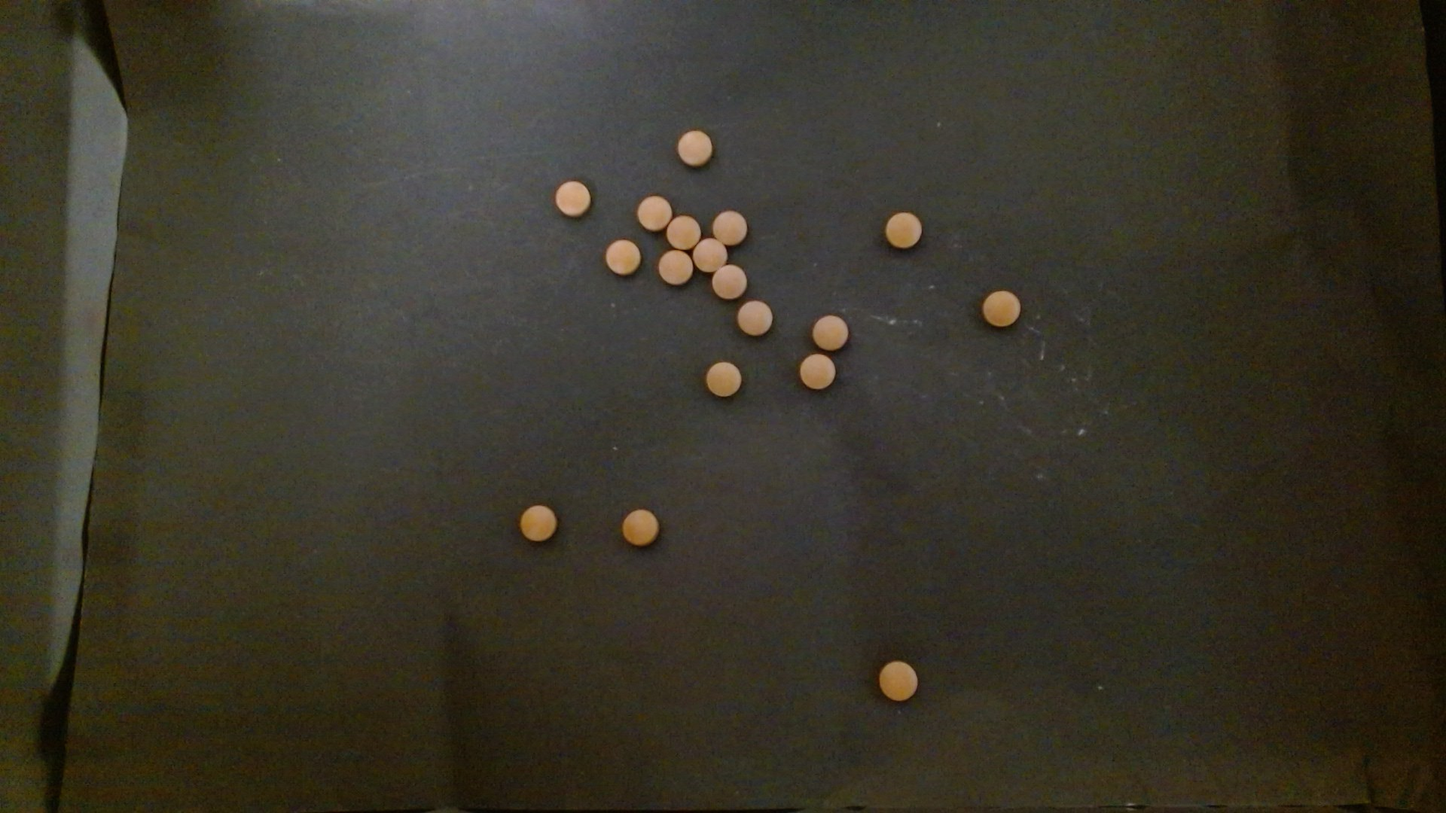Circle: (877, 660, 918, 702), (621, 508, 660, 547), (518, 504, 557, 542), (981, 289, 1020, 327), (604, 238, 642, 276), (884, 211, 923, 248), (798, 354, 837, 391), (635, 193, 673, 230), (554, 179, 591, 217), (811, 314, 849, 351), (703, 361, 742, 397), (676, 129, 713, 166), (711, 263, 747, 300), (735, 300, 772, 336), (712, 209, 748, 246), (659, 248, 694, 285), (692, 238, 728, 273), (667, 214, 700, 248)
